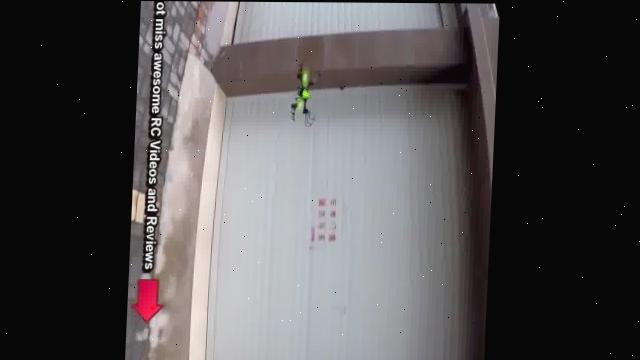drone: (254, 52, 356, 132)
